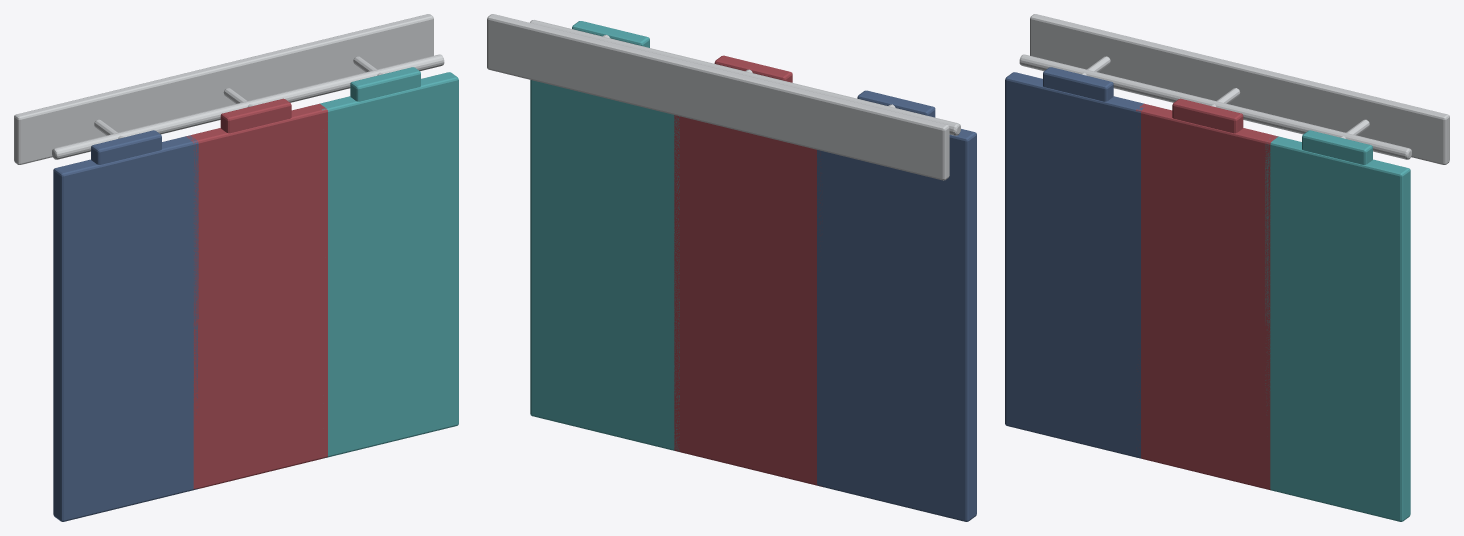
Rendered from lead_apron_rack.glb.
3 views of the same model, side by side, from view 1: azimuth 30°, elevation 25°; view 2: azimuth 150°, elevation 25°; view 3: azimuth 330°, elevation 25° (orthographic). The views are drawn at different scales.
Visible parts, largest first — view 1: lead_apron_rack; view 2: lead_apron_rack; view 3: lead_apron_rack.
Boxes of the visible parts, x1,y1,x2,y2 form: lead_apron_rack: (14,14,458,521); lead_apron_rack: (487,14,976,521); lead_apron_rack: (1005,14,1449,521).
Bounding box in the file's own units: 0.9 × 0.79 × 0.1475.
